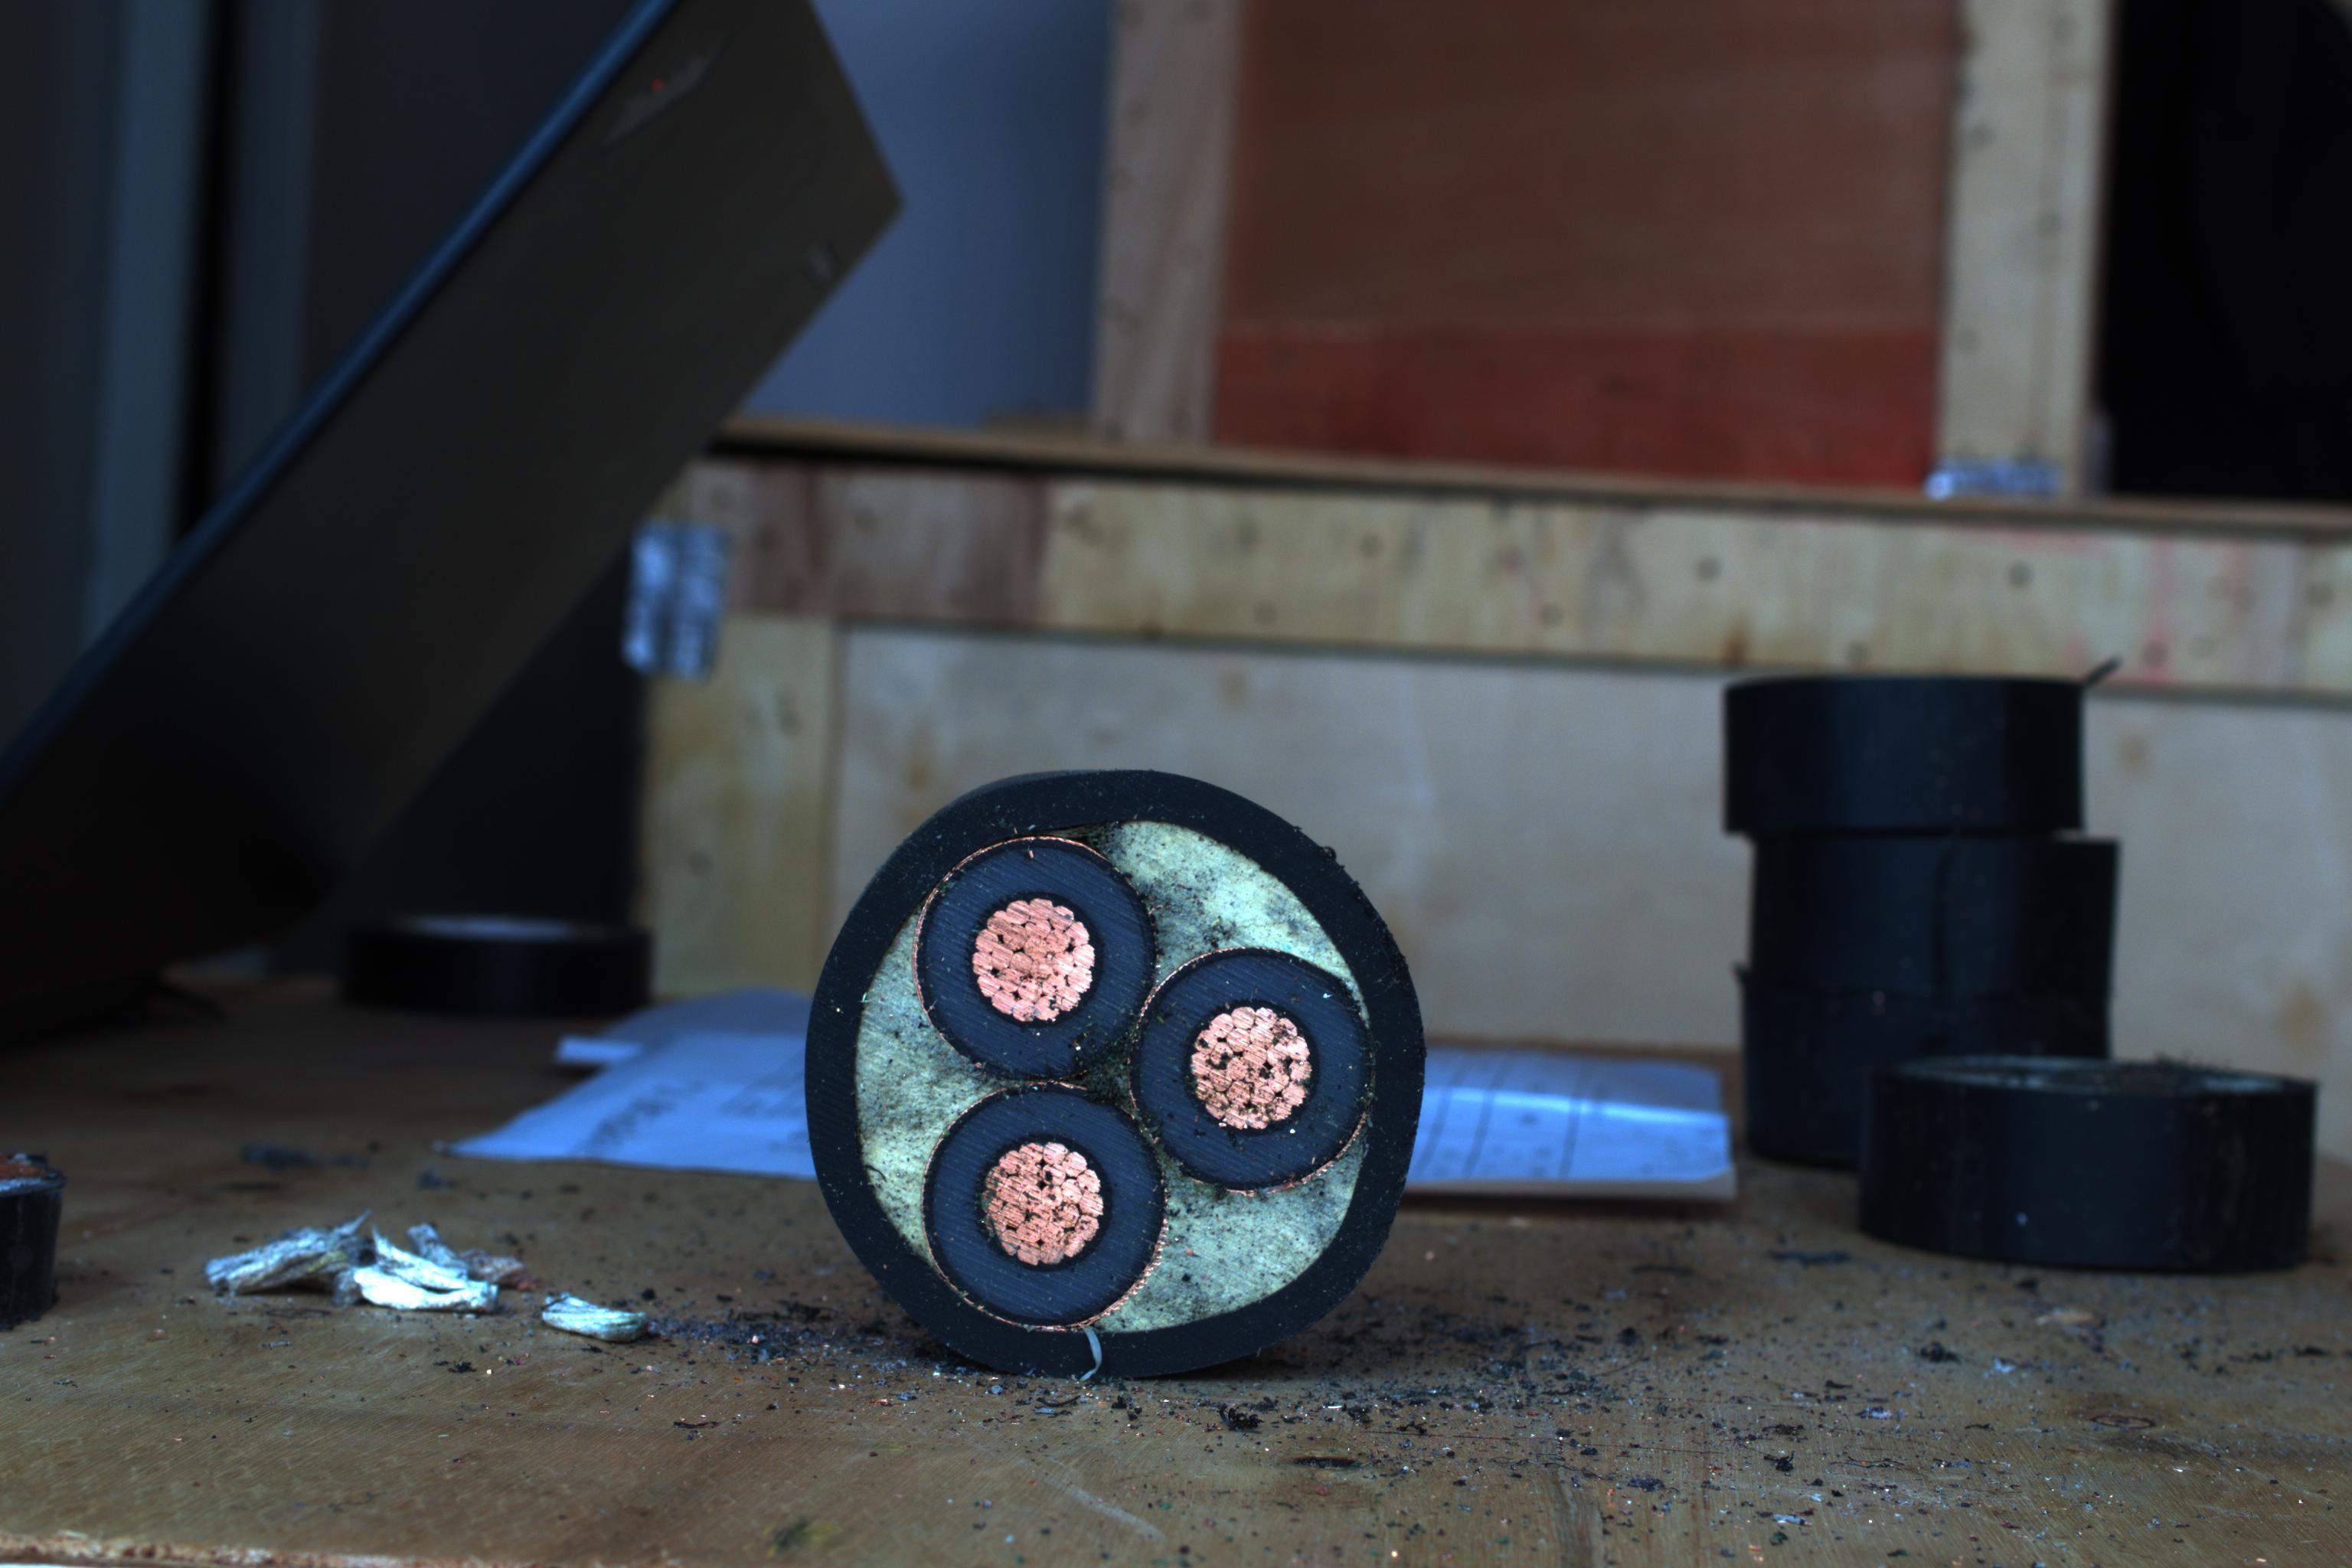ZA_YJV_8.7_10kV_3x120: (800, 775, 1433, 1374)
